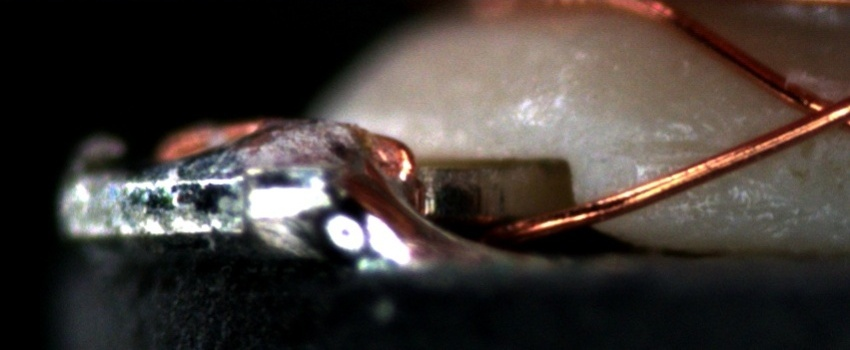CL: (779, 84, 847, 141)
DL: (622, 128, 753, 178)
TE: (146, 120, 418, 189)
